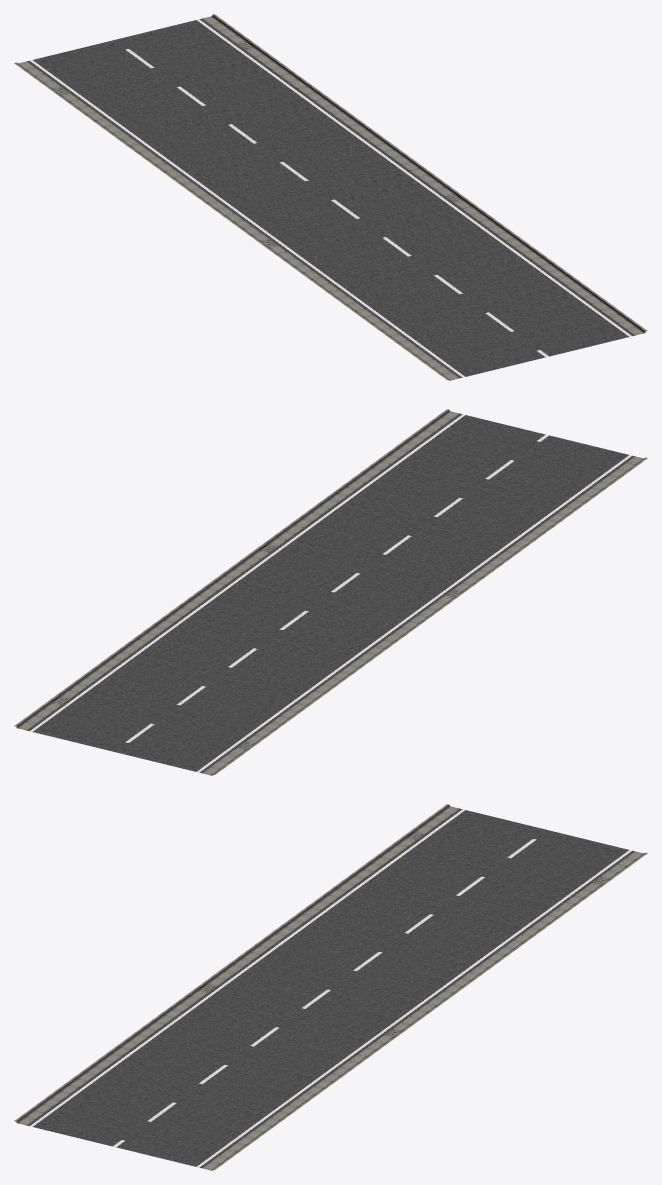
File: 1syasen.FBX
3 renders of one model, top to bottom at view 1: azimuth 30°, elevation 25°; view 2: azimuth 150°, elevation 25°; view 3: azimuth 330°, elevation 25°, orthographic.
Visible parts, largest first — view 1: Street1Lane30m; view 2: Street1Lane30m; view 3: Street1Lane30m.
Part boxes in pixels (x1=…): Street1Lane30m: x1=14, y1=14, x2=647, y2=380; Street1Lane30m: x1=14, y1=409, x2=647, y2=775; Street1Lane30m: x1=14, y1=804, x2=647, y2=1170.
Bounding box in the file's own units: 316 × 1.97 × 1181.
